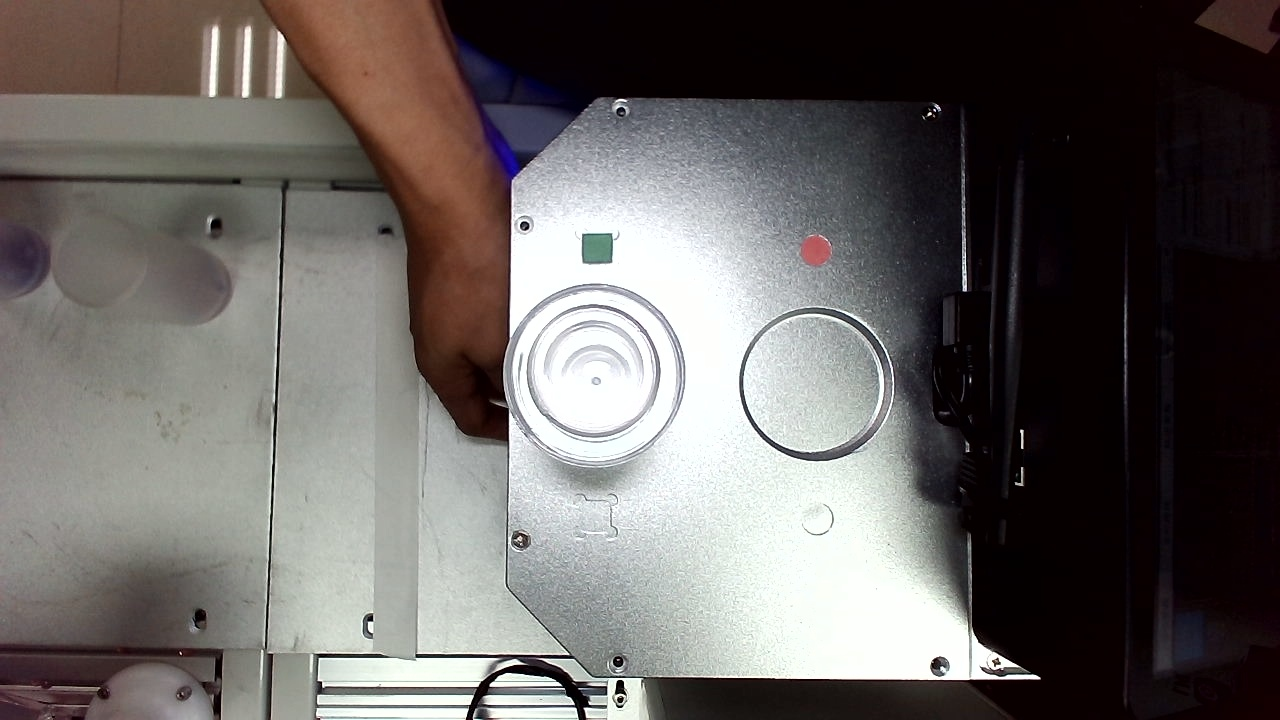bad: (254, 611, 307, 655), (285, 108, 336, 152), (757, 447, 808, 489), (836, 513, 882, 554), (259, 169, 306, 209), (603, 242, 645, 285), (695, 585, 736, 629), (838, 102, 878, 145), (741, 106, 777, 151), (618, 24, 659, 63), (529, 94, 570, 132), (365, 10, 404, 49), (727, 2, 765, 42), (803, 374, 844, 411), (269, 205, 313, 238), (501, 452, 538, 491), (258, 288, 295, 326), (780, 1, 816, 39), (715, 379, 751, 414), (260, 334, 295, 367), (529, 419, 564, 452), (731, 154, 764, 188), (751, 49, 778, 83)
pass: (551, 391, 596, 443), (576, 140, 615, 190), (261, 526, 304, 569), (818, 545, 863, 585), (263, 408, 306, 449), (287, 568, 330, 609), (515, 391, 554, 435), (435, 393, 476, 434), (806, 500, 845, 539), (566, 609, 604, 649), (734, 423, 772, 462), (667, 151, 705, 190), (649, 50, 685, 89), (687, 39, 722, 78), (536, 348, 571, 387), (773, 390, 807, 429)
toolong: (599, 361, 645, 433), (344, 39, 381, 100), (837, 228, 873, 290)
unpass: (831, 22, 875, 71), (582, 546, 626, 589), (451, 232, 491, 278), (802, 324, 844, 367), (498, 249, 540, 291), (769, 218, 810, 259), (277, 364, 319, 401), (827, 169, 867, 207), (408, 50, 445, 90), (537, 236, 576, 273), (660, 191, 698, 228), (646, 386, 681, 425), (826, 352, 863, 387), (798, 416, 835, 450), (846, 388, 883, 422), (841, 310, 873, 349), (657, 226, 690, 263), (654, 11, 683, 53)
